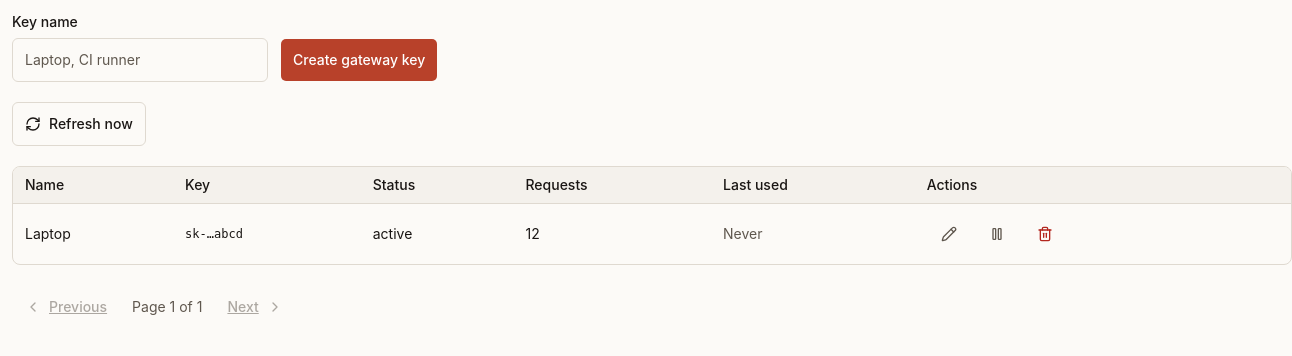
Test: gateway key row actions › keeps the draft and the gateway message when a rename is refused
Expected: the table is shown, [13, 167, 1291, 264]
Click the button named "Rename": (949, 234) [927, 212, 971, 256]
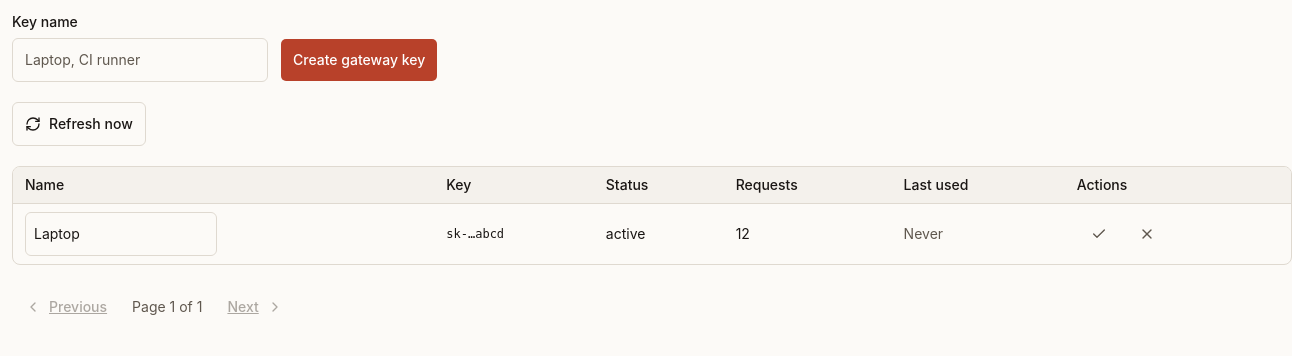
Replace the text in the field named "New name" with "Laptop two": (121, 234) [25, 212, 217, 256]
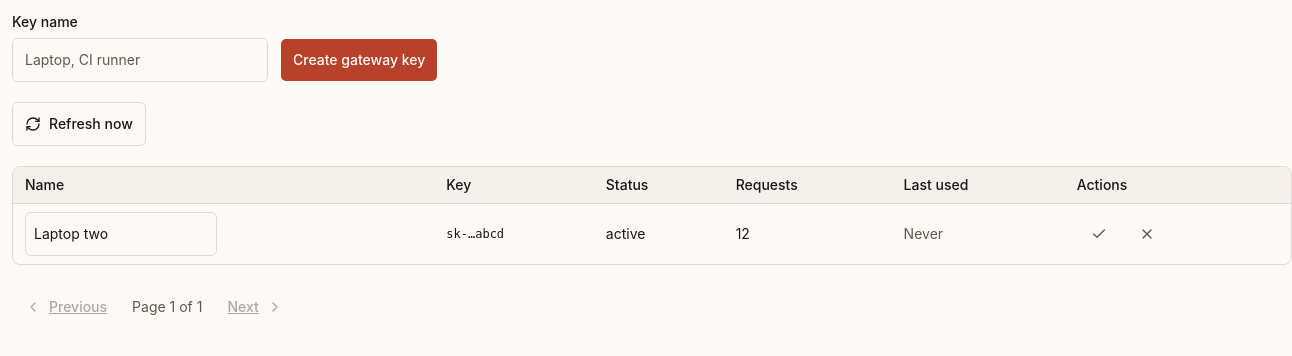
Click the button named "Save": (1099, 234) [1077, 212, 1121, 256]
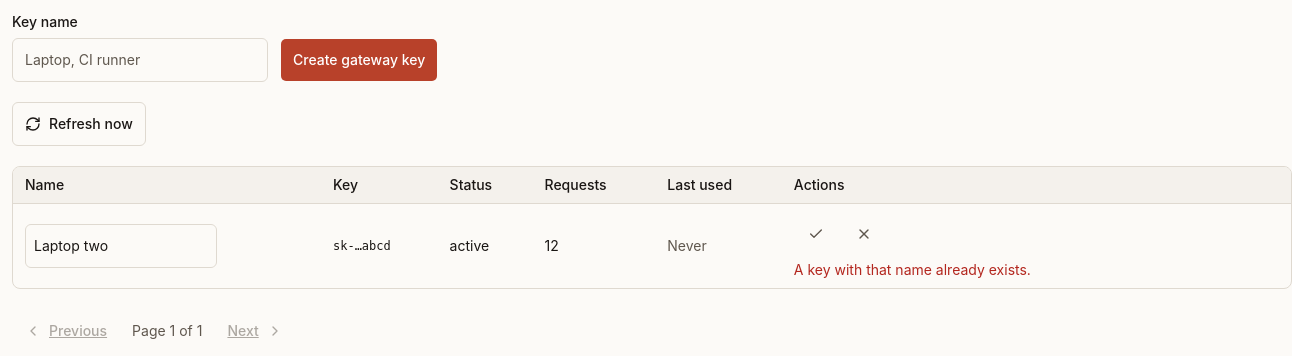
Result: the message reads "A key with that name already exists." at [794, 261, 1031, 278]
